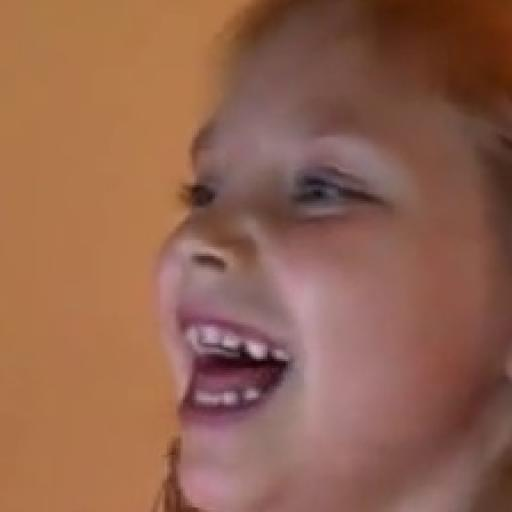Autism: (130, 16, 512, 512)
